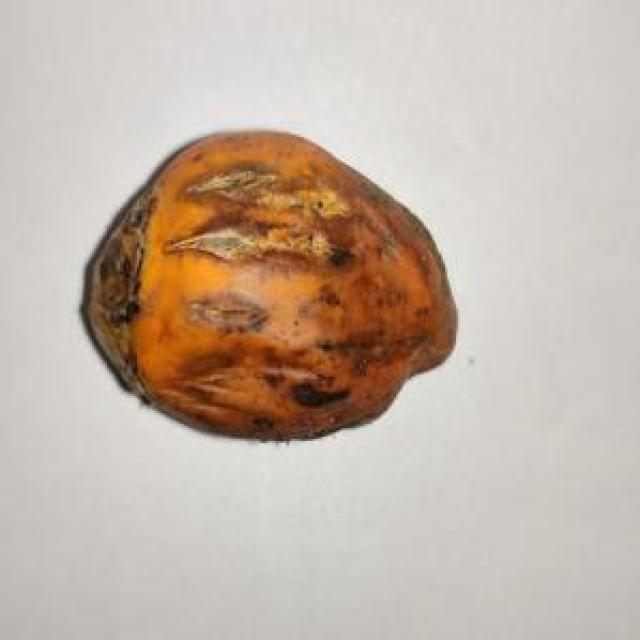damaged: (83, 133, 456, 439)
